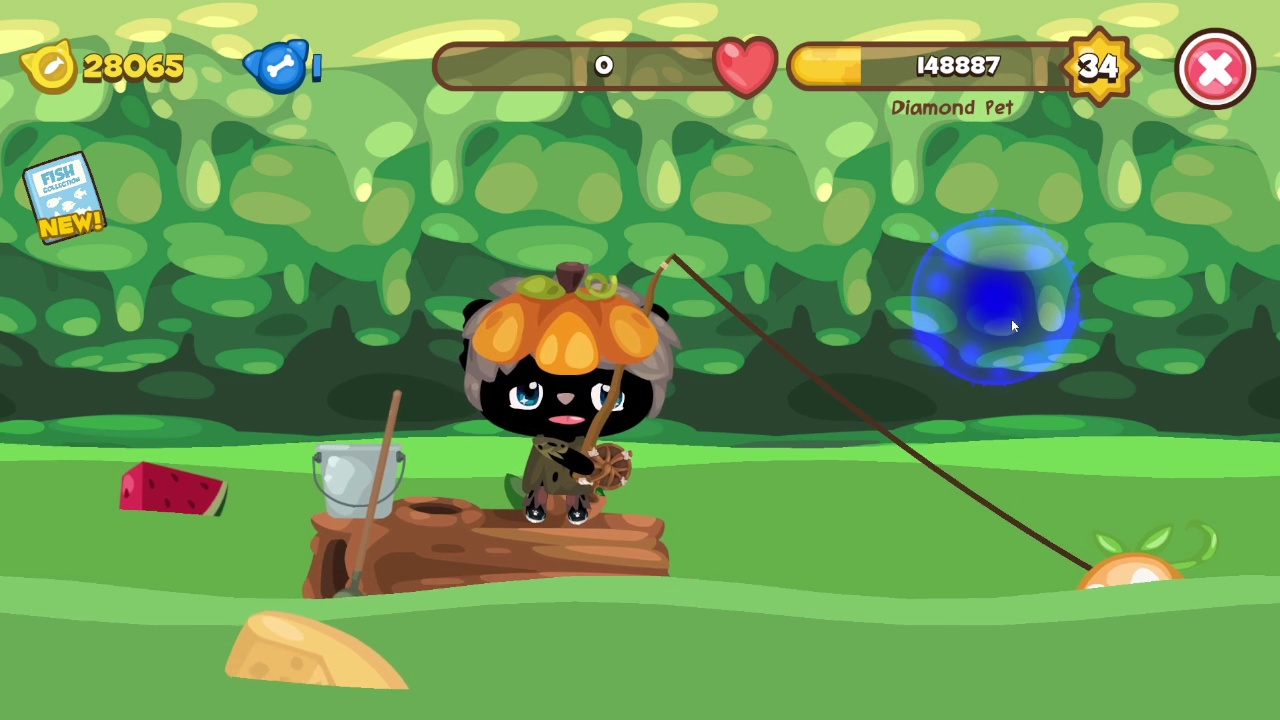point: (910, 214, 1084, 393)
